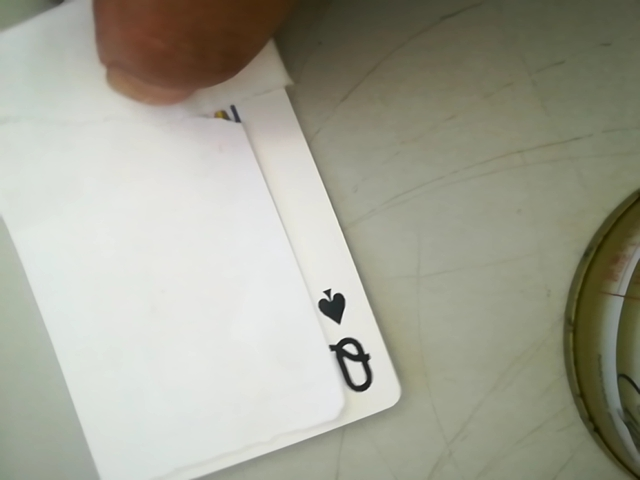ht q: (309, 273, 380, 411)
